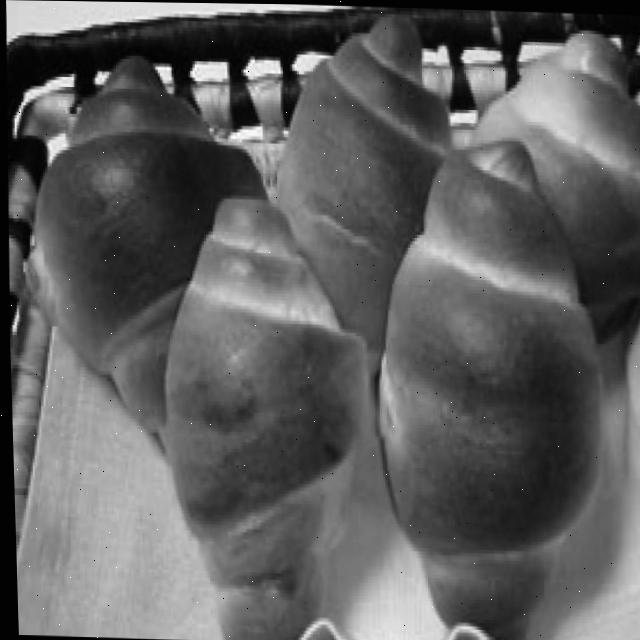面包点心: (32, 59, 640, 640)
